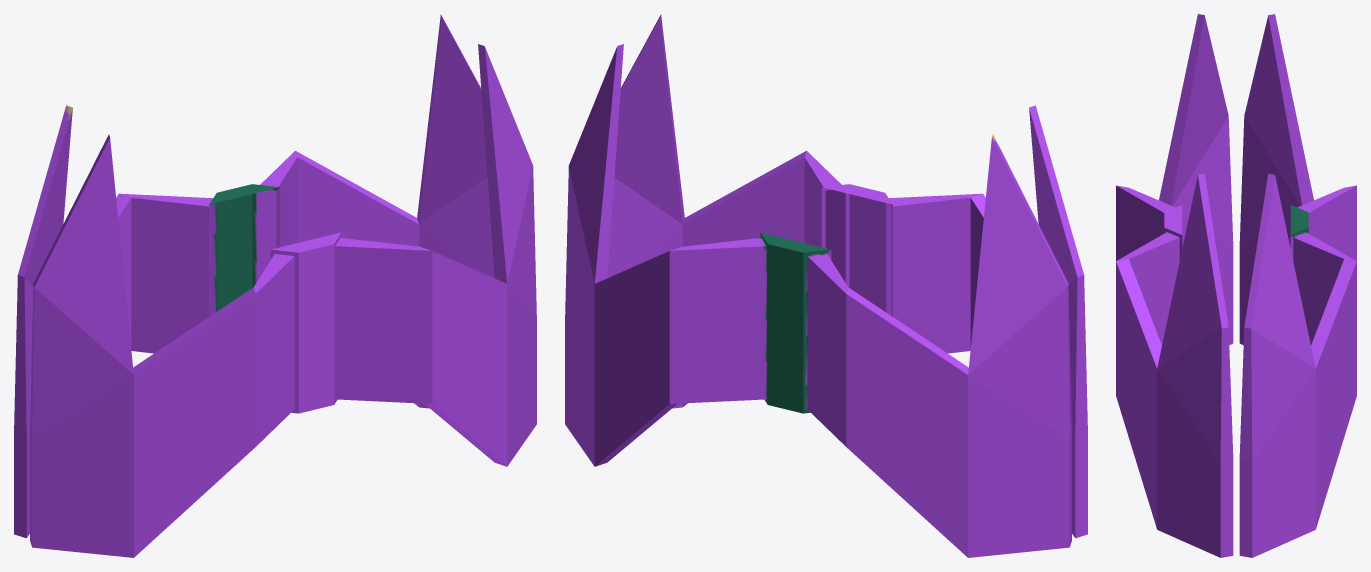
The model's file is Tour arbalète1.fbx.
3 views of the same model, side by side, from view 1: azimuth 30°, elevation 25°; view 2: azimuth 150°, elevation 25°; view 3: azimuth 270°, elevation 25° (orthographic). The views are drawn at different scales.
Parts seen in each view (by area): view 1: Tour 1; view 2: Tour 1; view 3: Tour 1.
Part boxes in pixels (x1,y1,x2,y2): Tour 1: [14, 14, 536, 557]; Tour 1: [565, 14, 1087, 557]; Tour 1: [1116, 14, 1356, 557].
Size of the model in its own units: 10.38 by 7.94 by 4.88.
